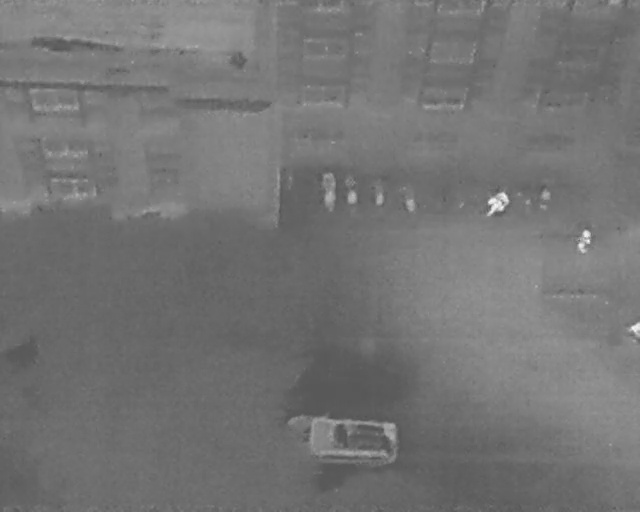Bicycle: (318, 169, 339, 213), (396, 180, 420, 214), (342, 172, 359, 207), (371, 175, 388, 208), (536, 184, 554, 214)
Car: (281, 413, 400, 468)
Person: (482, 188, 513, 221), (574, 226, 595, 256)
